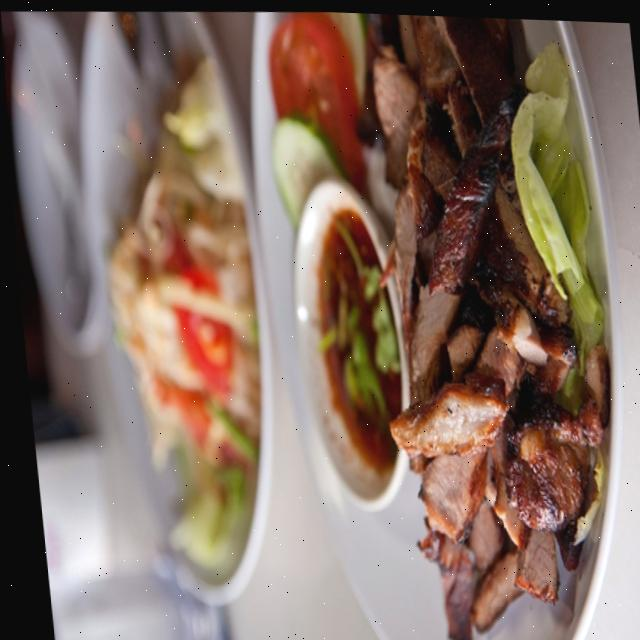猪肉菜式: (145, 27, 640, 633)
